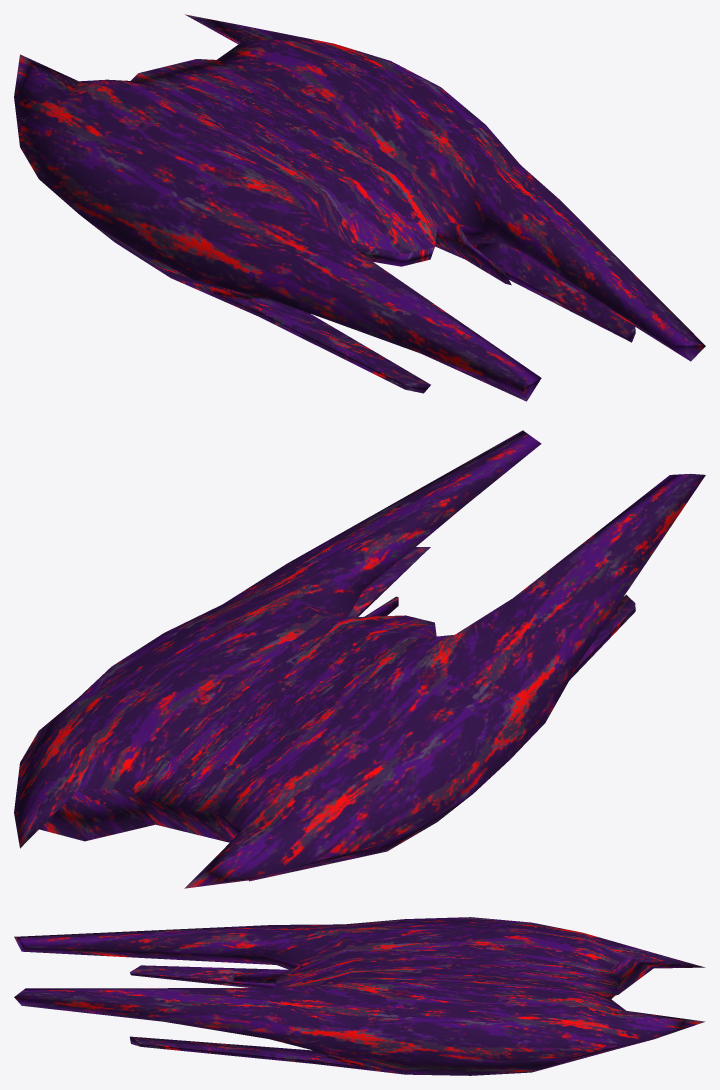
The model's file is SHIP.fbx.
The picture shows the model from 3 angles, top to bottom: view 1: azimuth 30°, elevation 25°; view 2: azimuth 150°, elevation 25°; view 3: azimuth 270°, elevation 25°; orthographic projection. The views are drawn at different scales.
Parts seen in each view (by area): view 1: pCube5; view 2: pCube5; view 3: pCube5.
Part boxes in pixels (x1,y1,x2,y2): pCube5: (14, 14, 705, 401); pCube5: (14, 430, 705, 888); pCube5: (14, 917, 705, 1075).
Bounding box in the file's own units: 56.36 × 15.92 × 127.
